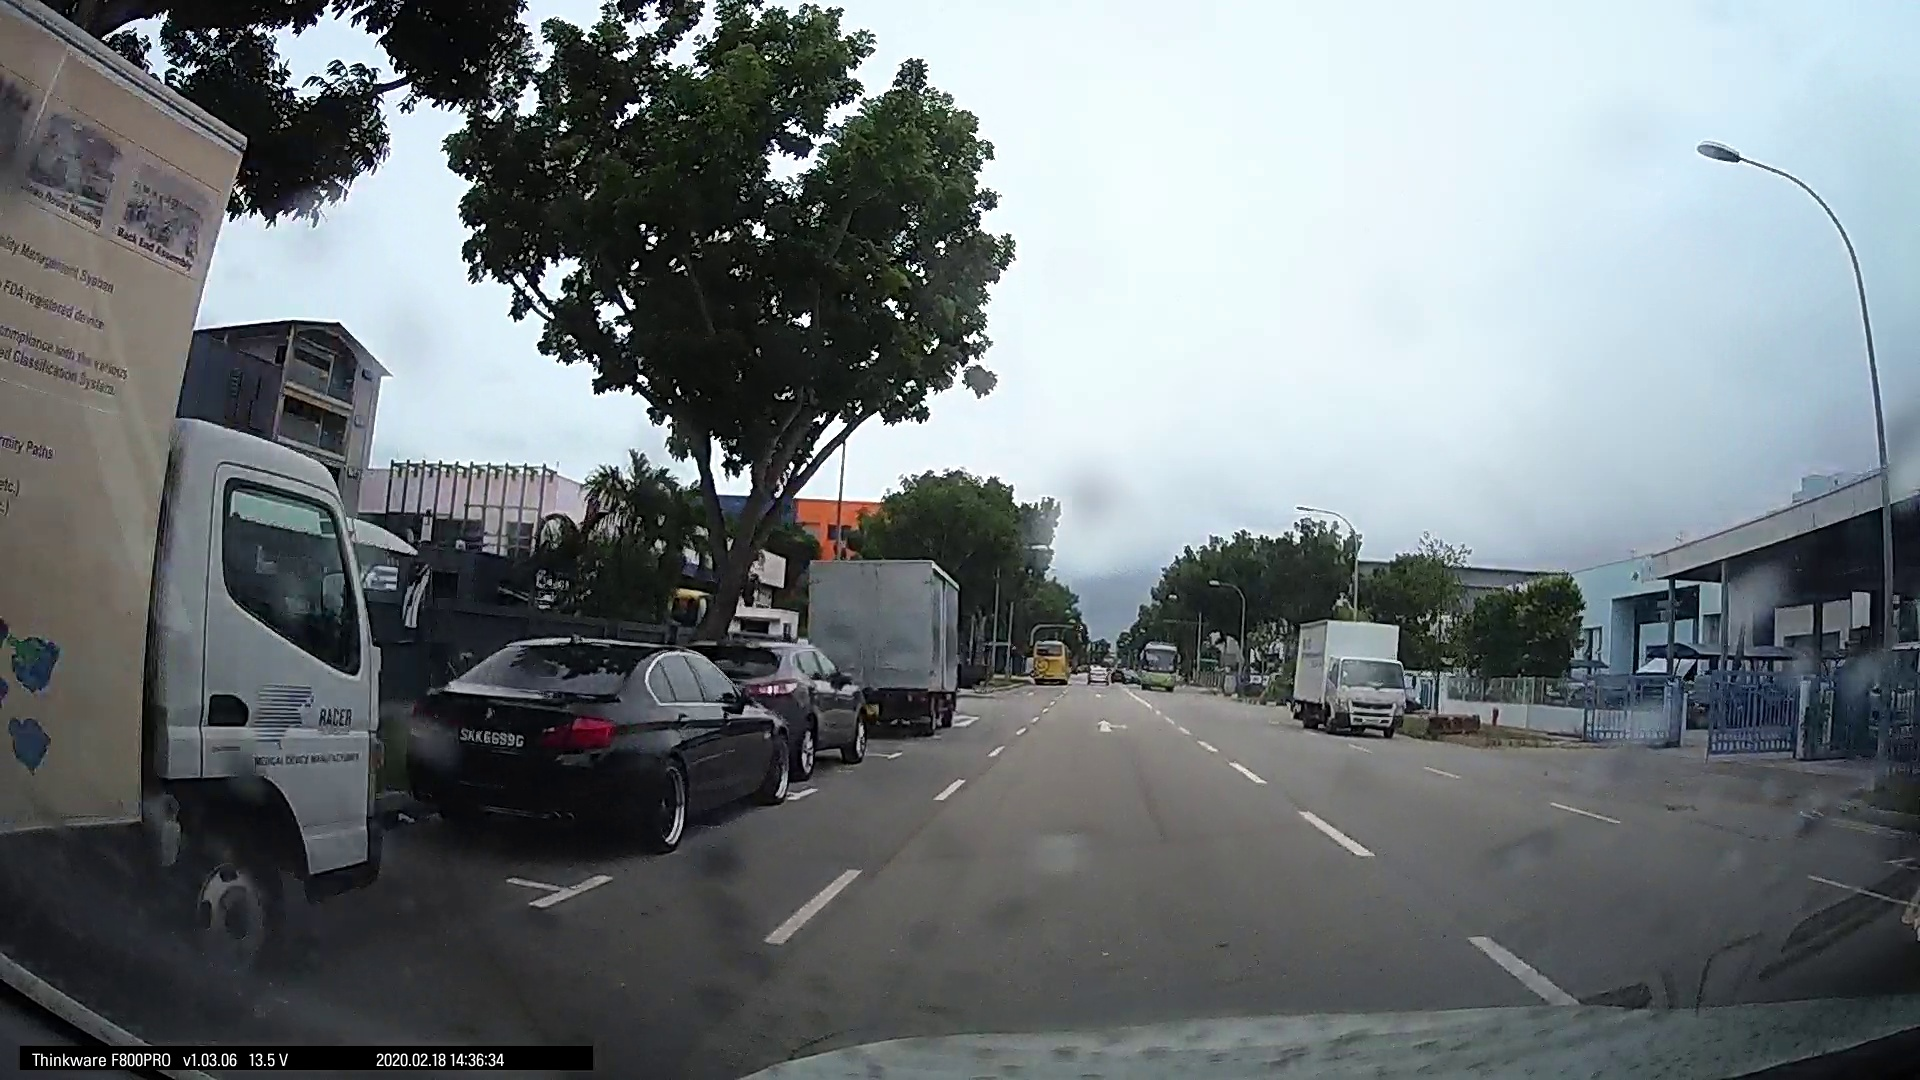Heavy Vehicle: (1, 149, 390, 993), (804, 553, 965, 738), (1287, 618, 1410, 738)
Light Vehicle: (411, 622, 793, 855), (732, 632, 866, 774), (1025, 633, 1072, 684), (1130, 644, 1178, 688)
